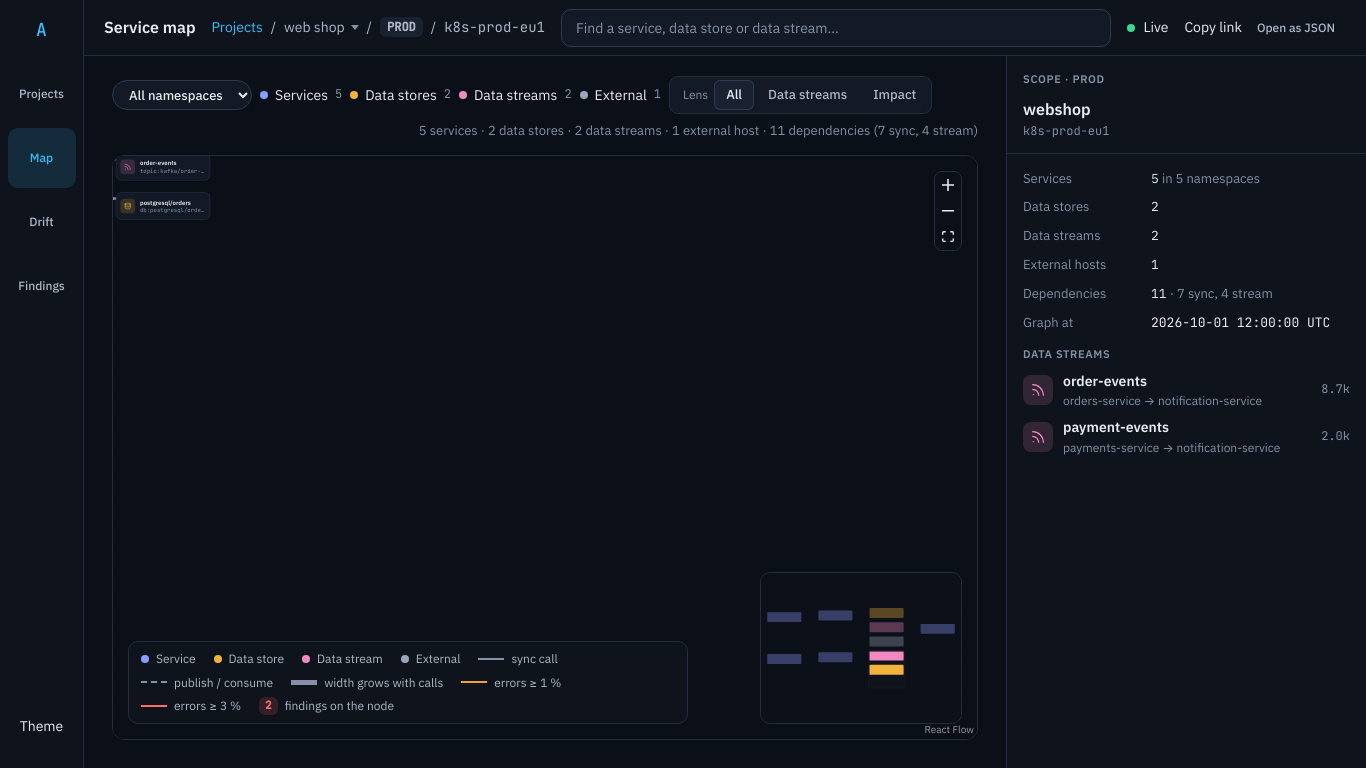
Test case: ScopePage › switches the lens, finds nodes and asks for a point in time
Click the button "Data streams": {"x": 808, "y": 95} [756,80,859,110]
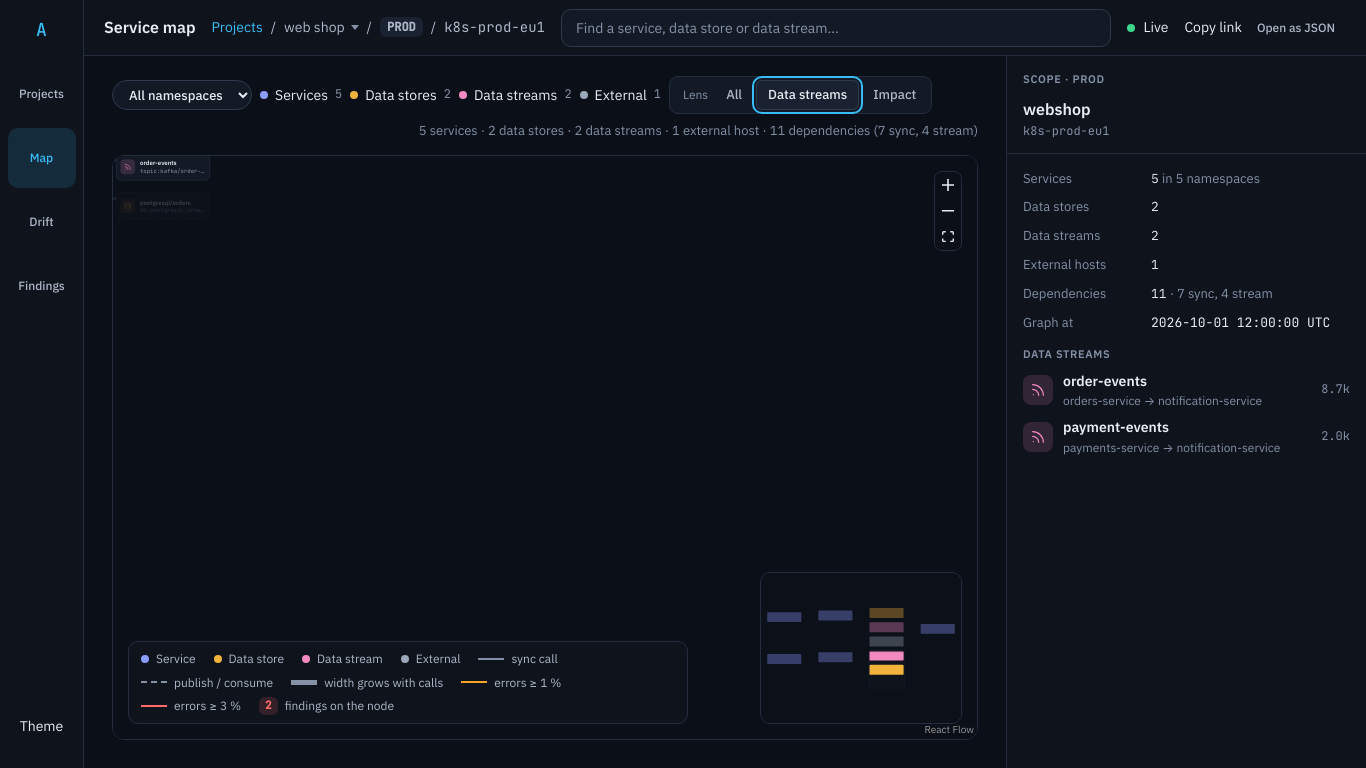
In the search field named "Find in map": {"x": 836, "y": 28} [561,8,1111,46], type "pay"
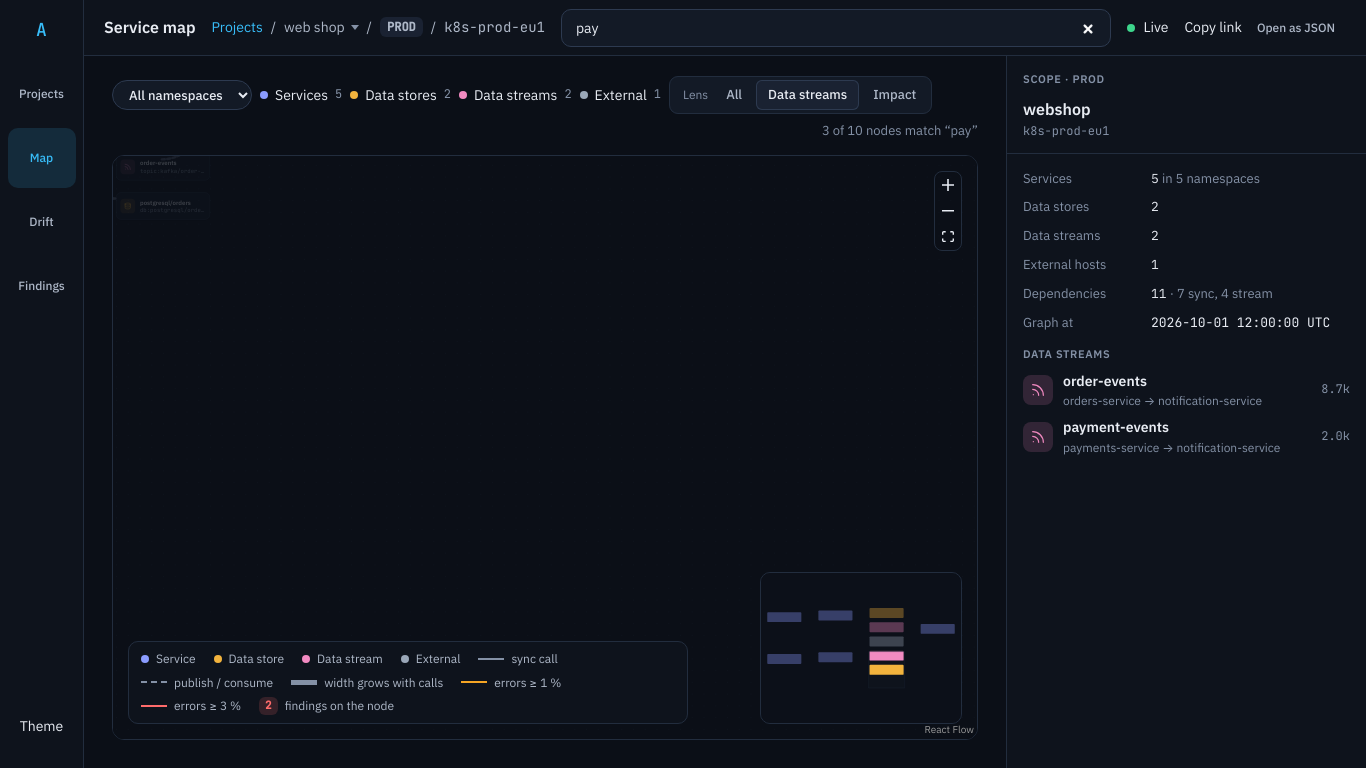
Expected: the text "3 of 10 nodes match “pay”" is shown, [822,122,978,141]
Click the button "Live": {"x": 1148, "y": 28} [1127,14,1168,42]
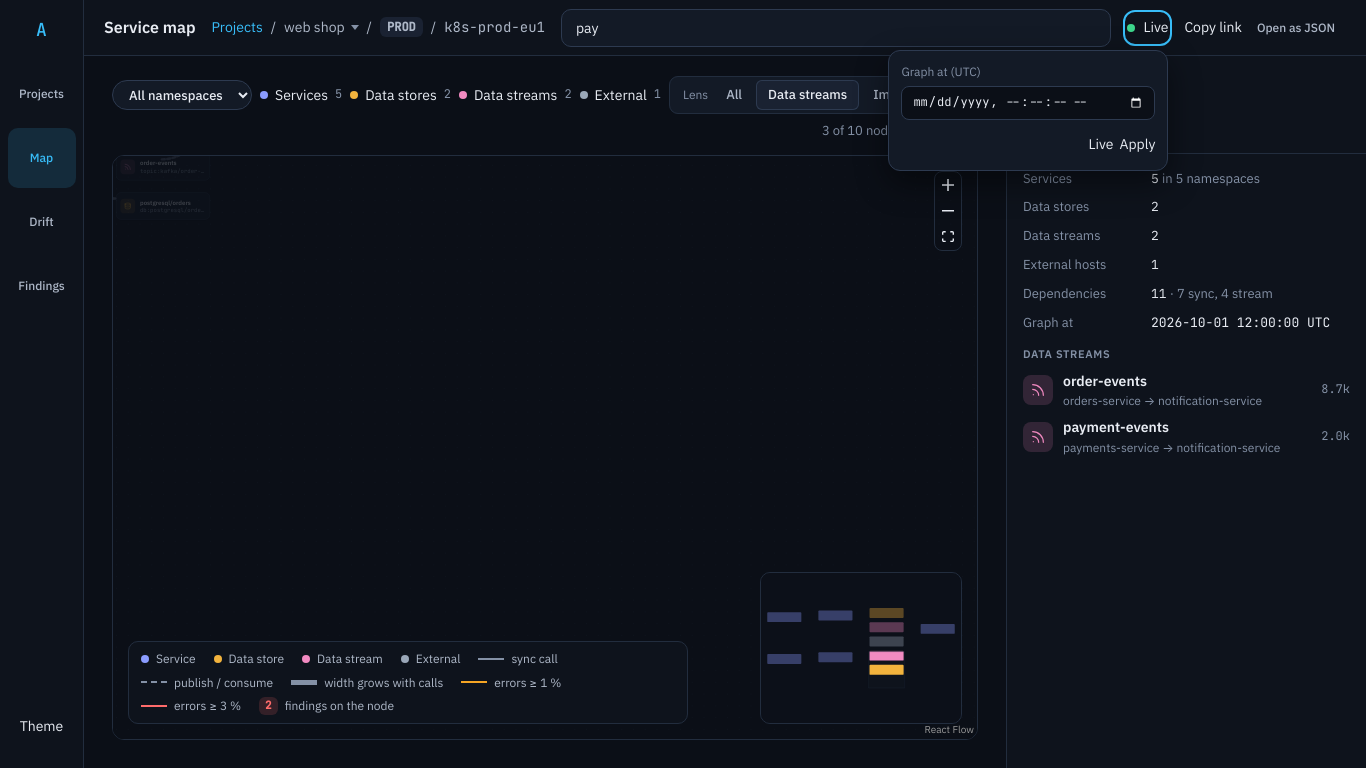
In the field labelled "Graph at (UTC)": {"x": 1028, "y": 103} [901,86,1155,120], type "2026-10-01T12:00:00"
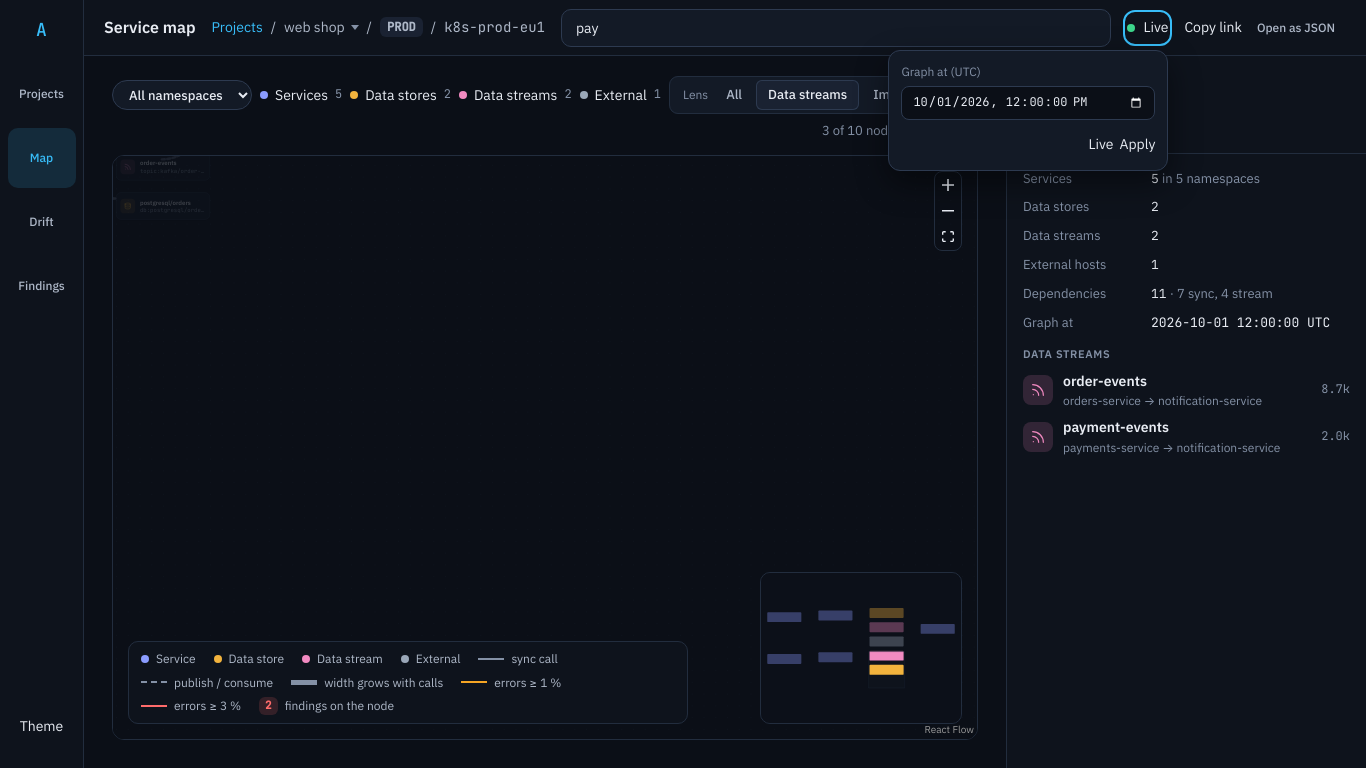
Click the button "Apply": {"x": 1137, "y": 144} [1120,130,1155,158]
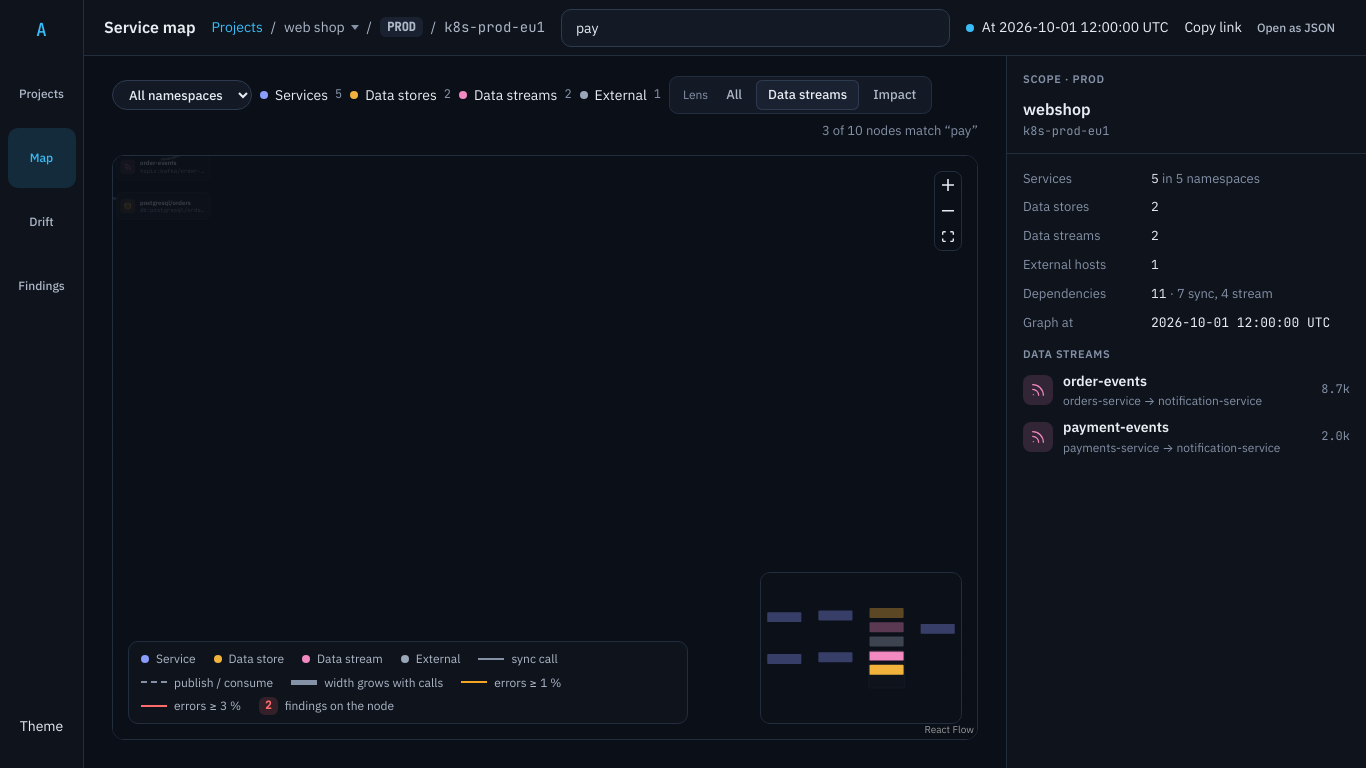
Expected: the button "At 2026-10-01 12:00:00 UTC" is shown, [966,14,1168,42]
